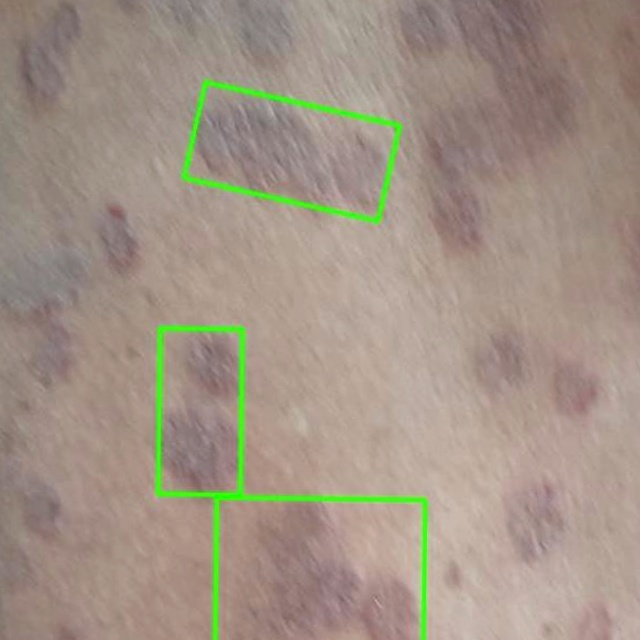Tinea Corporis: (184, 82, 400, 222), (215, 497, 425, 639), (158, 328, 242, 494)
